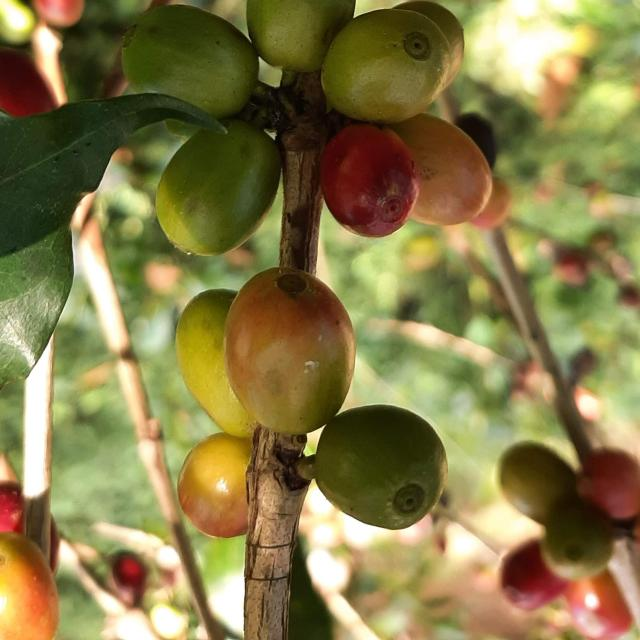green: (156, 119, 281, 255), (315, 405, 448, 530), (122, 3, 259, 118), (322, 9, 452, 123), (246, 0, 356, 71)
yellow: (224, 268, 356, 435), (175, 289, 255, 438), (390, 113, 493, 225), (320, 123, 421, 237), (177, 433, 252, 539), (0, 533, 58, 640)
